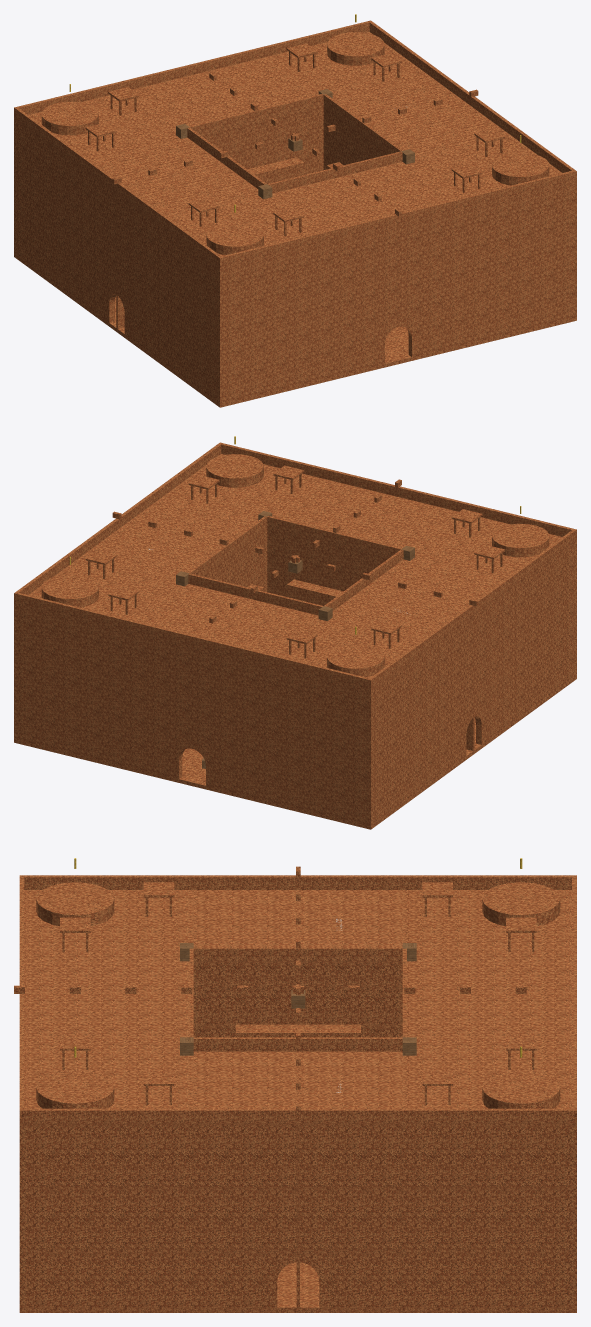
File: mahal_palace.glb
3 renders of one model, top to bottom at view 1: azimuth 30°, elevation 25°; view 2: azimuth 150°, elevation 25°; view 3: azimuth 270°, elevation 25°, orthographic. The views are drawn at different scales.
Visible parts, largest first — view 1: MahalPalace; view 2: MahalPalace; view 3: MahalPalace.
Part boxes in pixels (x1,y1,x2,y2): MahalPalace: (14, 14, 576, 407); MahalPalace: (14, 436, 576, 829); MahalPalace: (14, 858, 576, 1312).
Bounding box in the file's own units: 40.8 × 19.18 × 40.4.
Materials: 5 (4 with a texture image).
